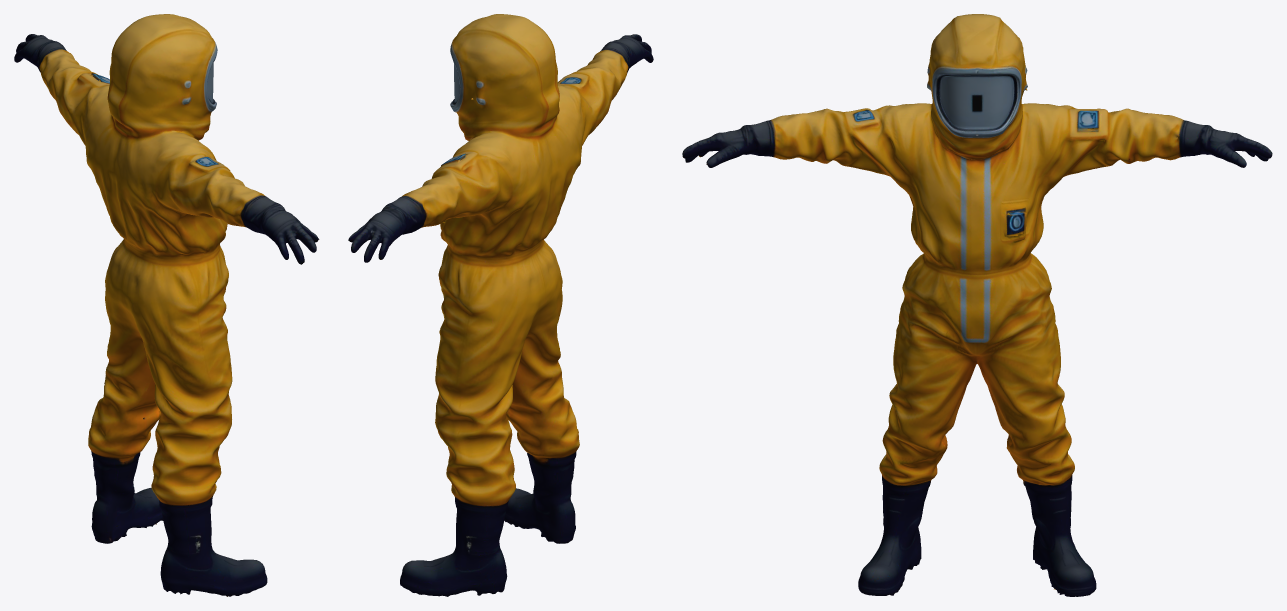
File: spacesuit+3d+model.fbx
3 renders of one model, left to right at view 1: azimuth 30°, elevation 25°; view 2: azimuth 150°, elevation 25°; view 3: azimuth 270°, elevation 25°, orthographic. The views are drawn at different scales.
Parts seen in each view (by area): view 1: tripo_node_b8fcfdc0; view 2: tripo_node_b8fcfdc0; view 3: tripo_node_b8fcfdc0.
Boxes of the visible parts, left/top/right/bottom form: tripo_node_b8fcfdc0: left=14, top=14, right=319, bottom=596; tripo_node_b8fcfdc0: left=348, top=14, right=653, bottom=596; tripo_node_b8fcfdc0: left=682, top=14, right=1272, bottom=596.
Bounding box in the file's own units: 0.2078 × 0.9993 × 0.965.
1 material, 1 textured.
